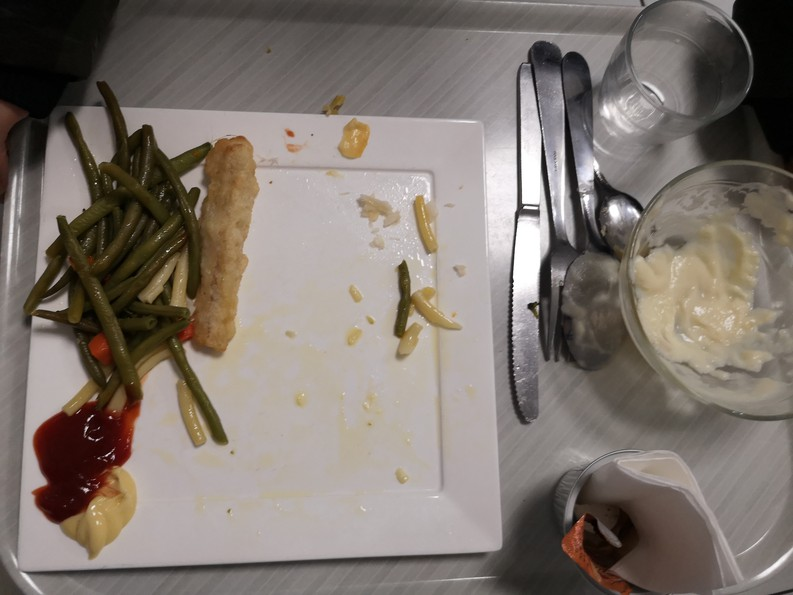cup: (609, 1, 767, 125)
cutlery: (502, 28, 632, 423)
orga: (49, 96, 186, 414), (183, 131, 261, 357), (654, 234, 772, 370), (34, 412, 145, 543)
trash: (550, 422, 748, 595)
